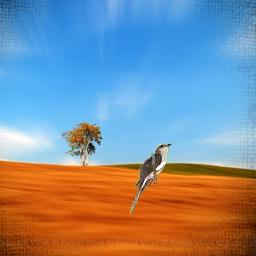Cuckoo: (130, 143, 172, 214)
